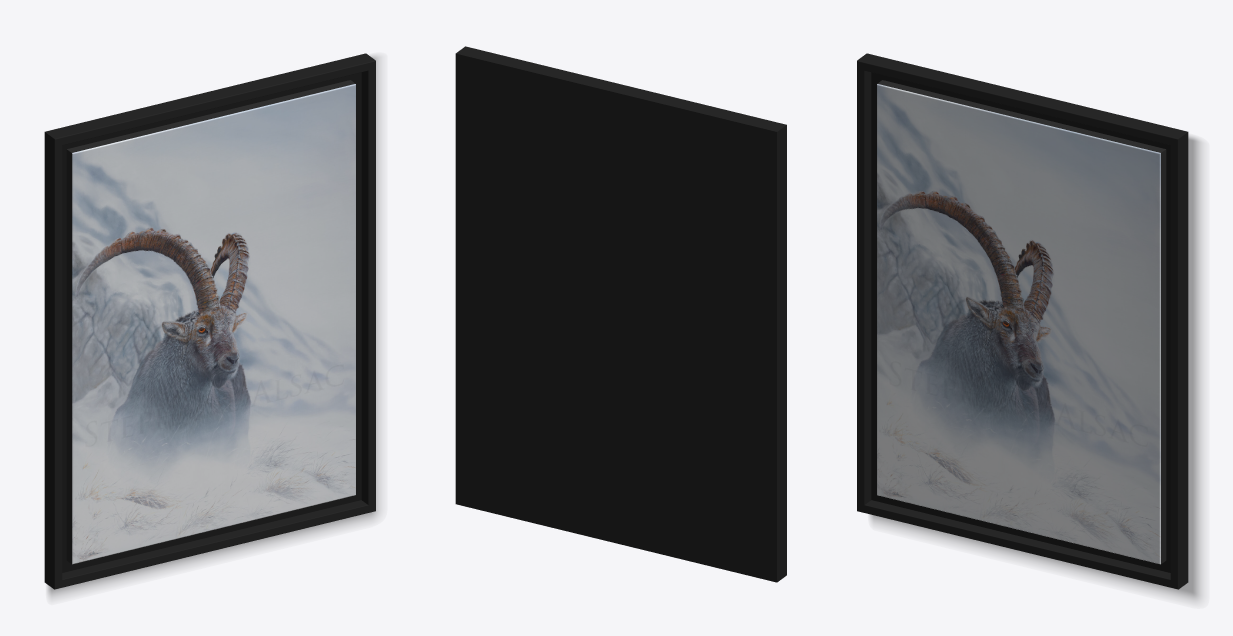
Rendered from tableau-peinture-ibex-classique-d28d8203.glb.
3 renders of one model, left to right at view 1: azimuth 30°, elevation 25°; view 2: azimuth 150°, elevation 25°; view 3: azimuth 330°, elevation 25°, orthographic.
Visible parts, largest first — view 1: Painting; view 2: Painting; view 3: Painting.
Part boxes in pixels (left/top/right/bottom): Painting: left=44, top=53, right=378, bottom=597; Painting: left=455, top=46, right=786, bottom=582; Painting: left=857, top=53, right=1200, bottom=600.
Bounding box in the file's own units: 0.876 × 1.13 × 0.04.
Materials: 5 (3 with a texture image).
